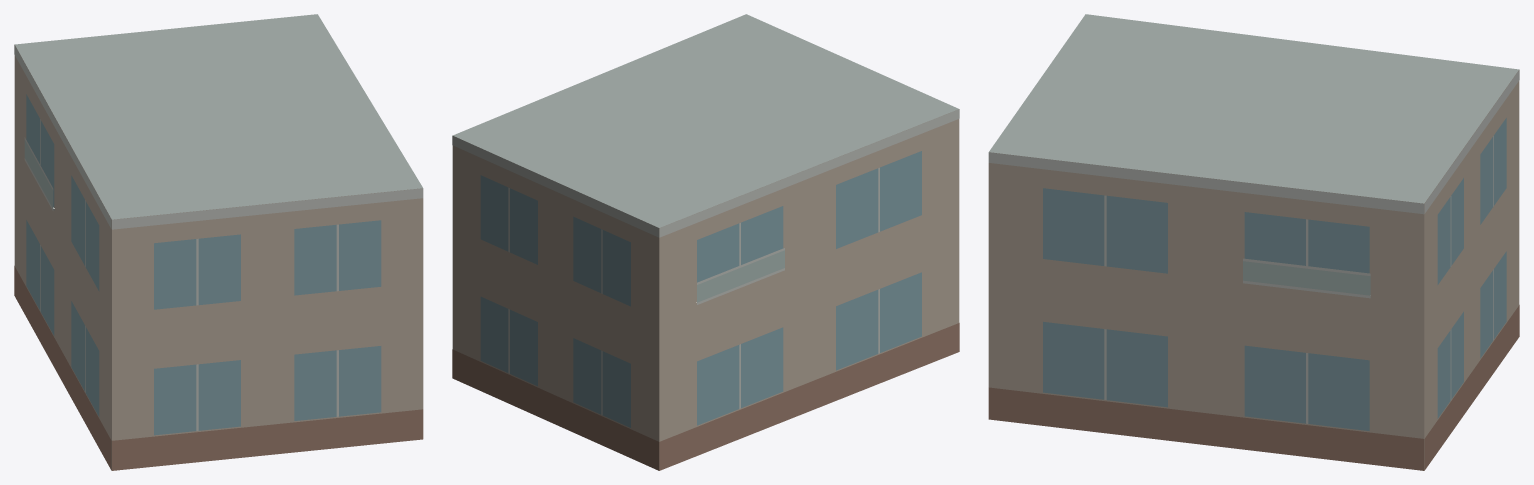
The model's file is survey-upis-32874457.glb.
3 renders of one model, left to right at view 1: azimuth 30°, elevation 25°; view 2: azimuth 150°, elevation 25°; view 3: azimuth 270°, elevation 25°, orthographic. The views are drawn at different scales.
Parts seen in each view (by area): view 1: survey-upis-32874457.tmp; view 2: survey-upis-32874457.tmp; view 3: survey-upis-32874457.tmp.
Part boxes in pixels (x1,y1,x2,y2): survey-upis-32874457.tmp: [14, 14, 423, 470]; survey-upis-32874457.tmp: [452, 14, 959, 470]; survey-upis-32874457.tmp: [988, 14, 1519, 470].
Bounding box in the file's own units: 9.29 × 6.1 × 10.99.
